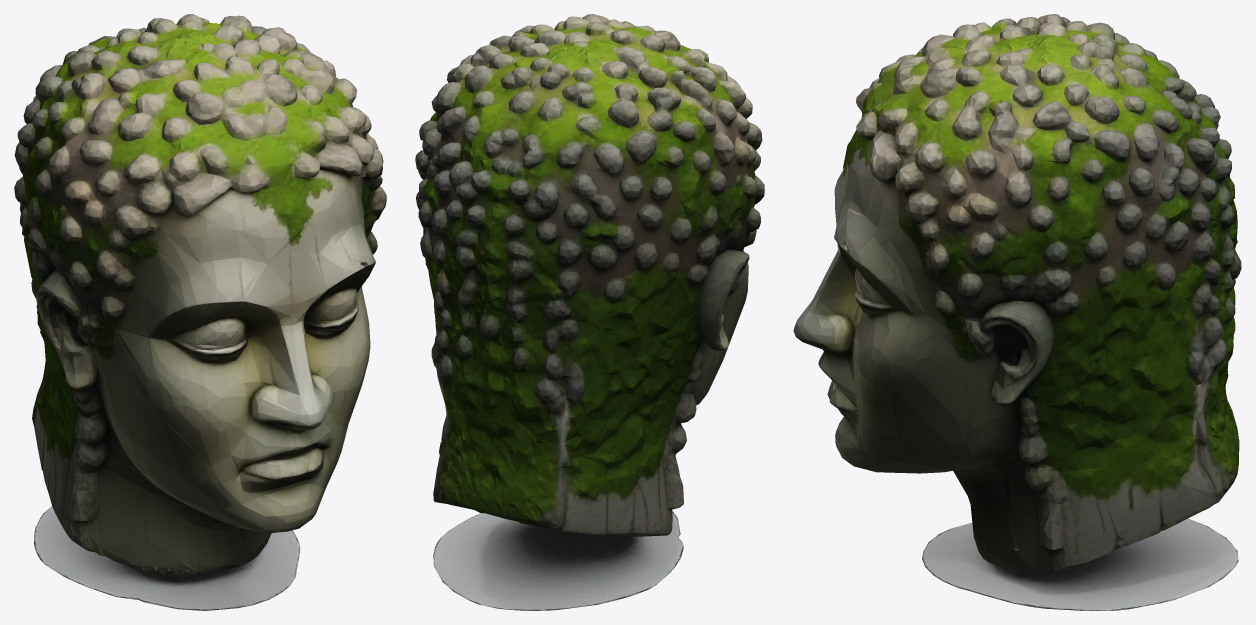
File: generated_idol_head.glb
The picture shows the model from 3 angles, left to right: view 1: azimuth 30°, elevation 25°; view 2: azimuth 150°, elevation 25°; view 3: azimuth 270°, elevation 25°; orthographic projection. The views are drawn at different scales.
Parts seen in each view (by area): view 1: geometry_0; view 2: geometry_0; view 3: geometry_0.
Part boxes in pixels (x1=…): geometry_0: x1=14, y1=14, x2=386, y2=610; geometry_0: x1=415, y1=14, x2=764, y2=610; geometry_0: x1=793, y1=14, x2=1241, y2=610.
Bounding box in the file's own units: 0.6352 × 0.9976 × 0.7855.
Materials: 1 (1 with a texture image).
